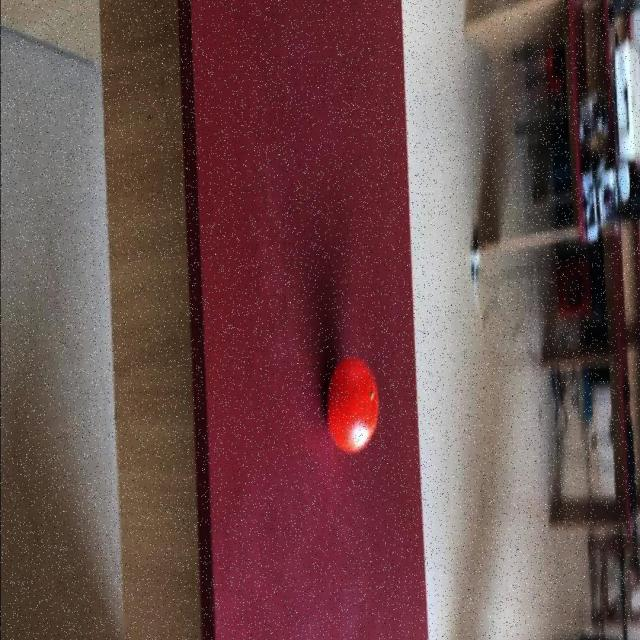Orange: (326, 357, 380, 455)
